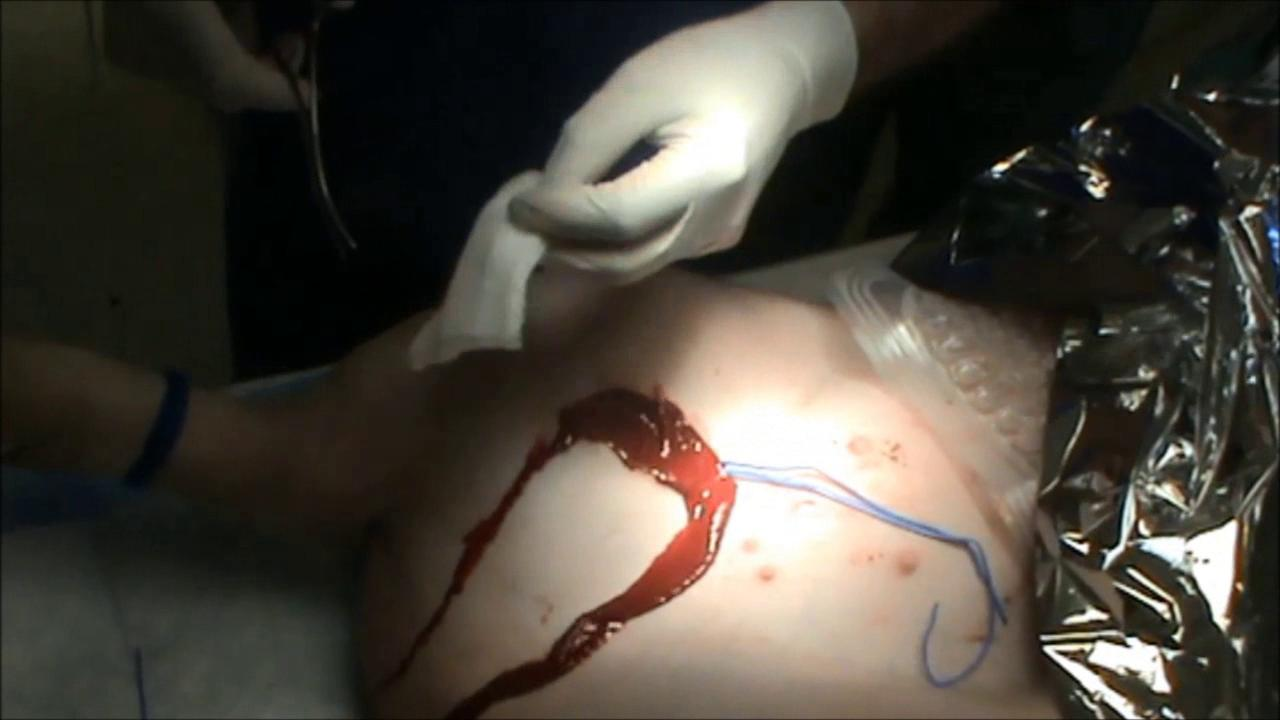gauze: (408, 164, 548, 372)
